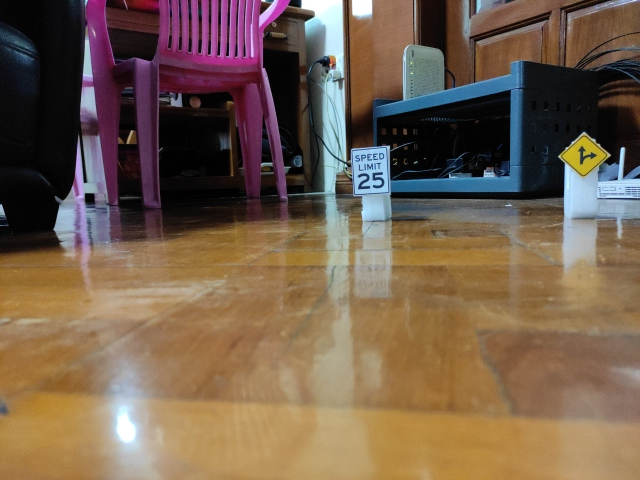Speed Limit 25: (350, 144, 391, 197)
Straight Or Right Sign: (560, 134, 610, 177)
